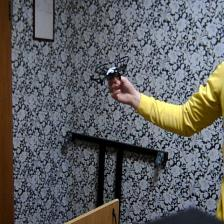drone: (88, 54, 132, 93)
